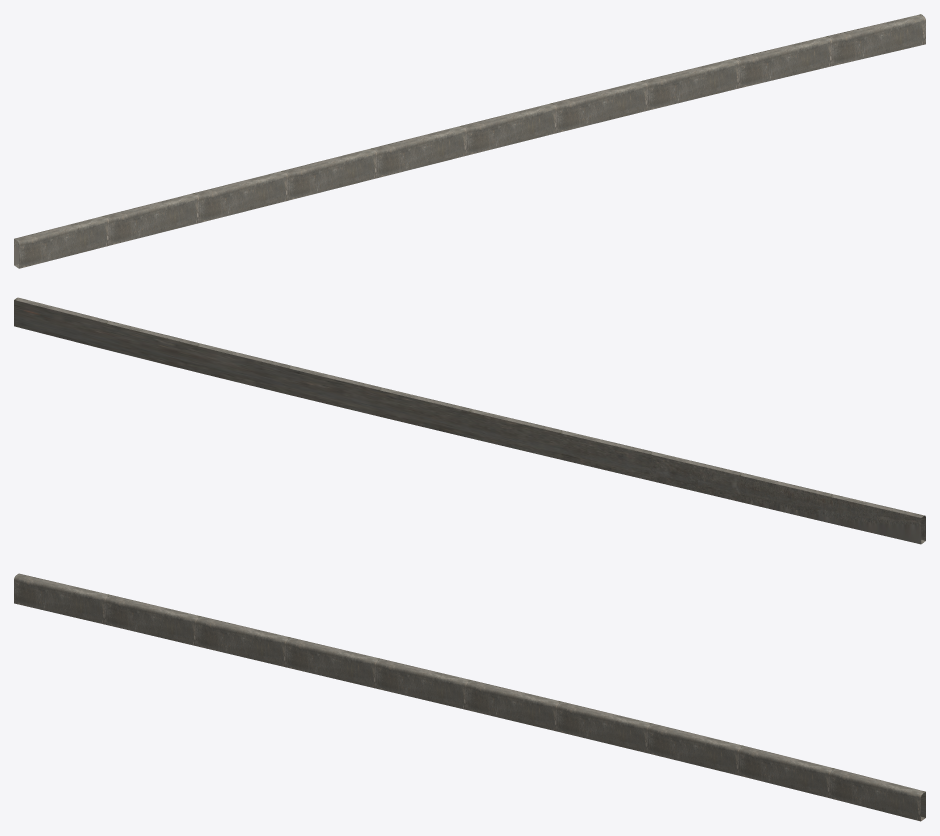
Rendered from SM_Curb_05.glb.
The picture shows the model from 3 angles, top to bottom: view 1: azimuth 30°, elevation 25°; view 2: azimuth 150°, elevation 25°; view 3: azimuth 330°, elevation 25°; orthographic projection.
Visible parts, largest first — view 1: SM_Curb_05; view 2: SM_Curb_05; view 3: SM_Curb_05.
Boxes of the visible parts, x1,y1,x2,y2 form: SM_Curb_05: (14,14,925,268); SM_Curb_05: (14,297,925,544); SM_Curb_05: (14,573,925,821).
Bounding box in the file's own units: 2690 × 75.02 × 49.73.
Materials: 1 (1 with a texture image).
